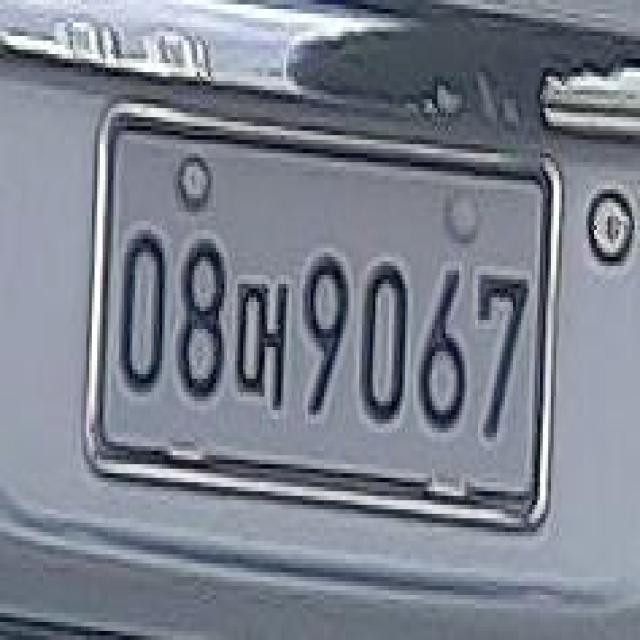illegal_plate: (78, 100, 556, 525)
